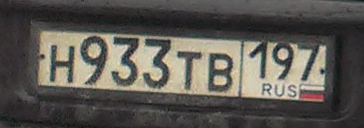character: (142, 37, 173, 93), (111, 36, 143, 89), (77, 35, 108, 88), (208, 49, 236, 96), (46, 42, 76, 84), (176, 48, 204, 93), (296, 40, 321, 85), (271, 40, 294, 81), (249, 42, 269, 81)
